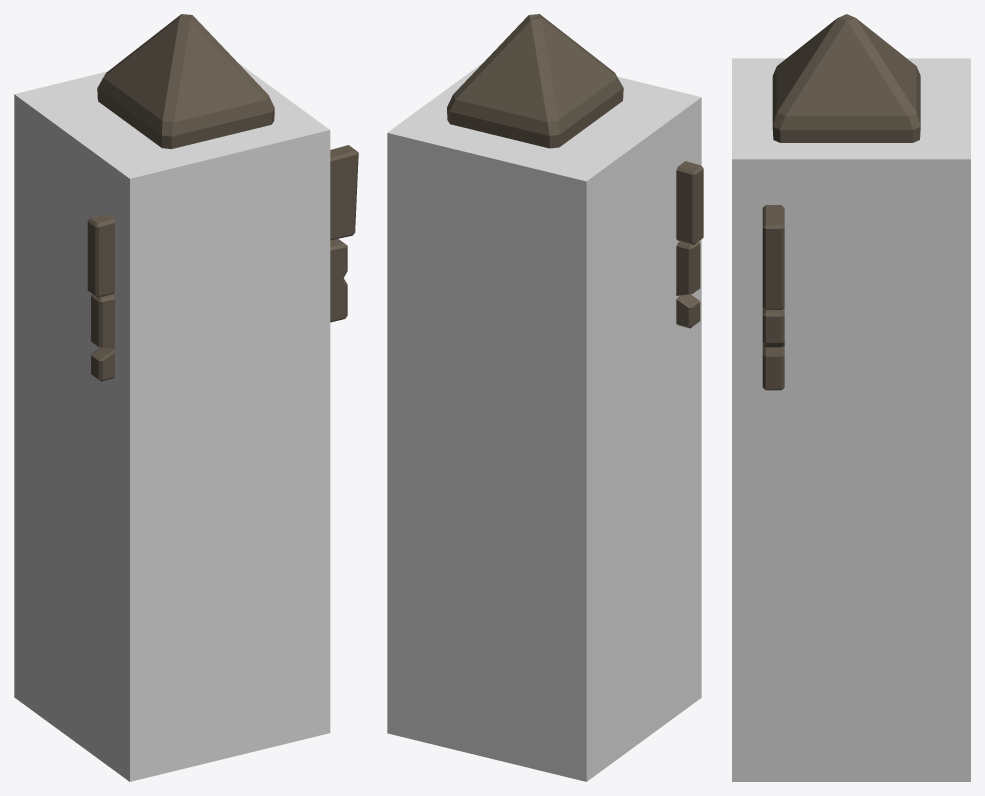
File: signpost_wood_3.glb
3 views of the same model, side by side, from view 1: azimuth 30°, elevation 25°; view 2: azimuth 150°, elevation 25°; view 3: azimuth 270°, elevation 25° (orthographic). The views are drawn at different scales.
Visible parts, largest first — view 1: Cube, Signpost_03; view 2: Cube, Signpost_03; view 3: Cube, Signpost_03.
Boxes of the visible parts, bbox=[...] form: Cube: bbox=[14, 62, 330, 781]; Signpost_03: bbox=[87, 14, 358, 381]; Cube: bbox=[387, 62, 701, 781]; Signpost_03: bbox=[447, 14, 703, 328]; Cube: bbox=[732, 58, 970, 781]; Signpost_03: bbox=[762, 14, 920, 390].
Bounding box in the file's own units: 0.4268 × 1.08 × 0.3243.
1 material, 1 textured.
